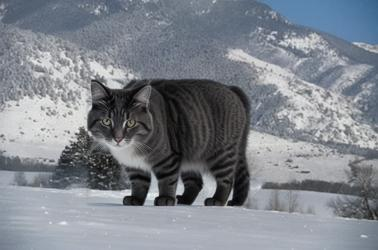cat: (87, 79, 249, 205)
